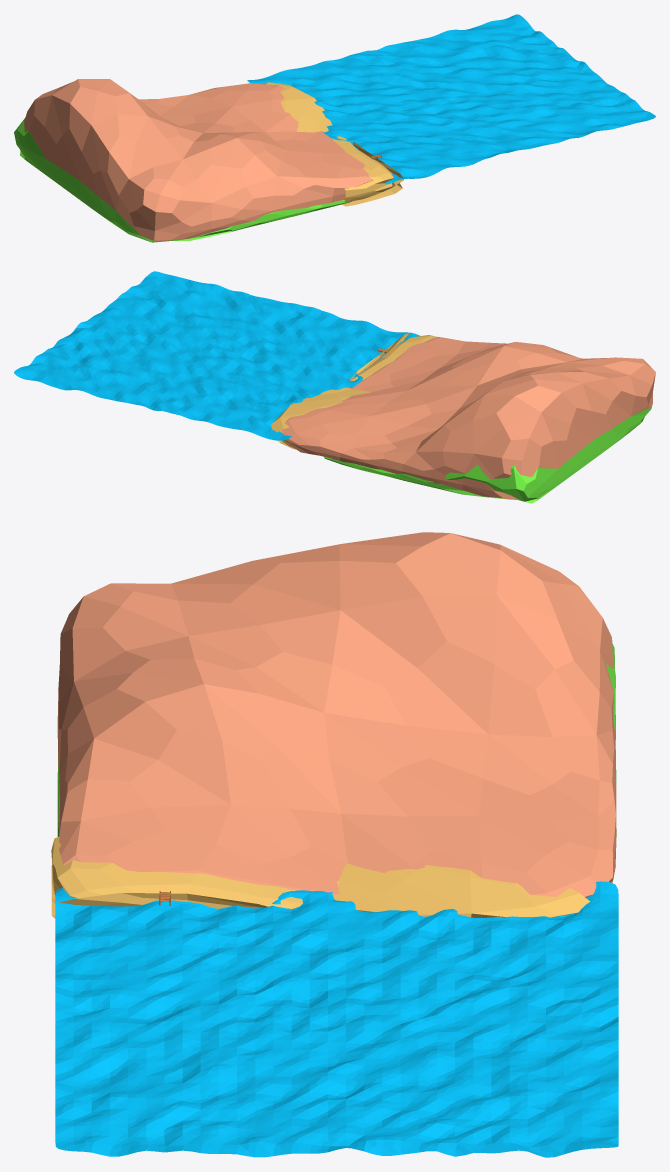
File: ParkScene.fbx
3 views of the same model, one above another, from view 1: azimuth 30°, elevation 25°; view 2: azimuth 150°, elevation 25°; view 3: azimuth 270°, elevation 25° (orthographic). The views are drawn at different scales.
Parts seen in each view (by area): view 1: Cube, Lake, Cube.001; view 2: Cube, Lake, Cube.001; view 3: Cube, Lake, Cube.001.
Boxes of the visible parts, box(x1,y1,x2,y2) form: Cube: box(14, 79, 373, 242); Lake: box(247, 14, 655, 184); Cube.001: box(266, 82, 403, 206); Cube: box(281, 337, 655, 503); Lake: box(14, 271, 420, 440); Cube.001: box(271, 333, 436, 449); Cube: box(57, 532, 616, 897); Lake: box(55, 881, 618, 1157); Cube.001: box(51, 836, 590, 918).
Size of the model in its own units: 5926 by 978 by 2864.
